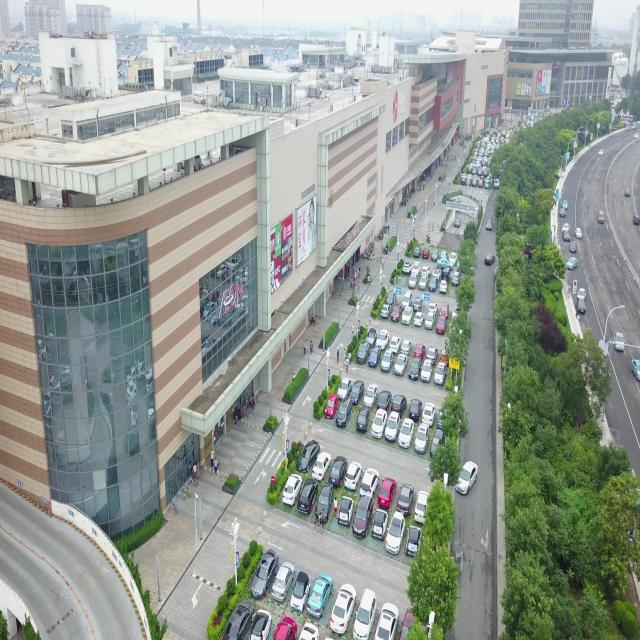car: (630, 359, 640, 381)
